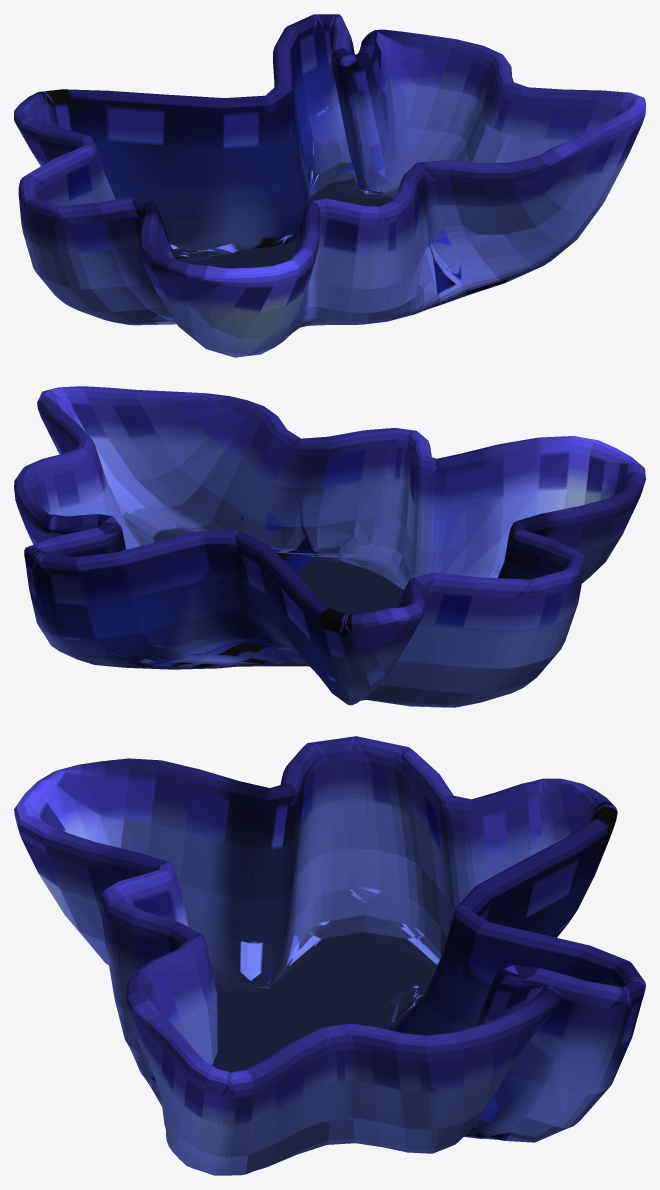
The model's file is coral4.glb.
3 renders of one model, top to bottom at view 1: azimuth 30°, elevation 25°; view 2: azimuth 150°, elevation 25°; view 3: azimuth 270°, elevation 25°, orthographic. The views are drawn at different scales.
Parts seen in each view (by area): view 1: Coral04; view 2: Coral04; view 3: Coral04.
Part boxes in pixels (x1,y1,x2,y2): Coral04: [14, 14, 645, 357]; Coral04: [14, 386, 645, 707]; Coral04: [14, 736, 645, 1175].
Size of the model in its own units: 1.21 by 0.2905 by 0.9385.
1 material, 1 textured.
